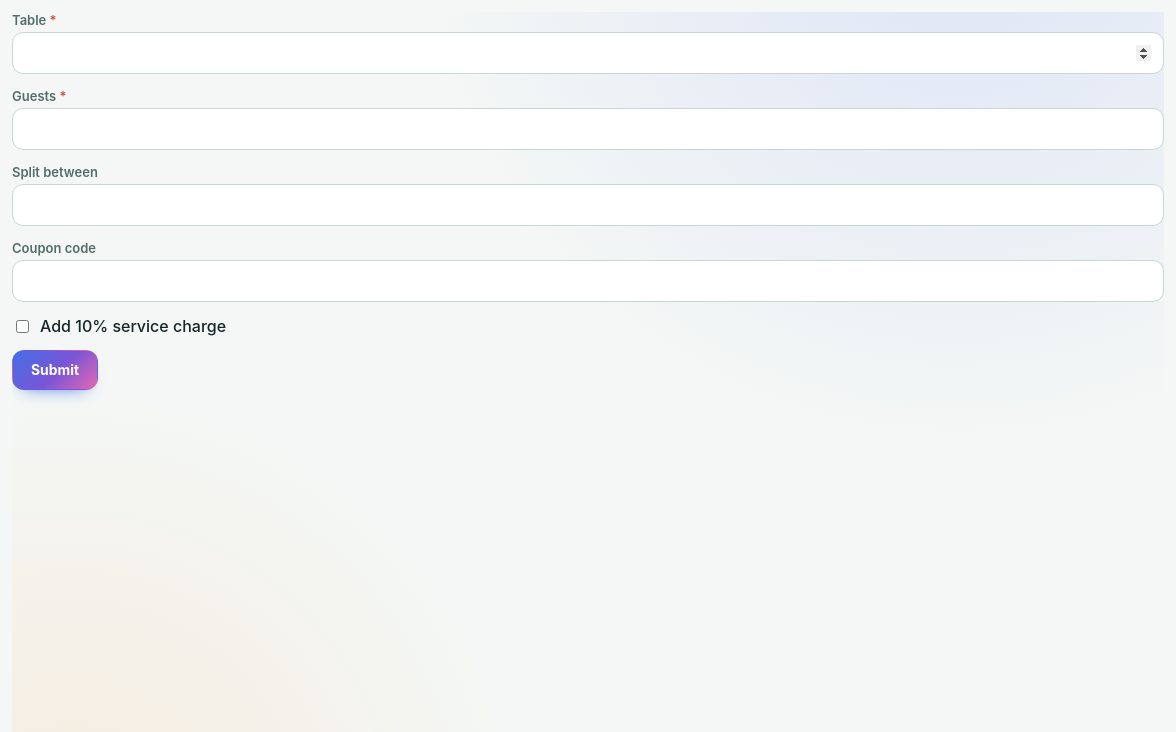
Scenario: <DynamicFormRenderer /> › shows errors instead of submitting invalid data
The width and height of the screenshot is (1176, 732).
Type "500" into the number field labelled "Table *".
click(588, 53); type("500")  # box top-left (12, 32), bottom-right (1164, 74)
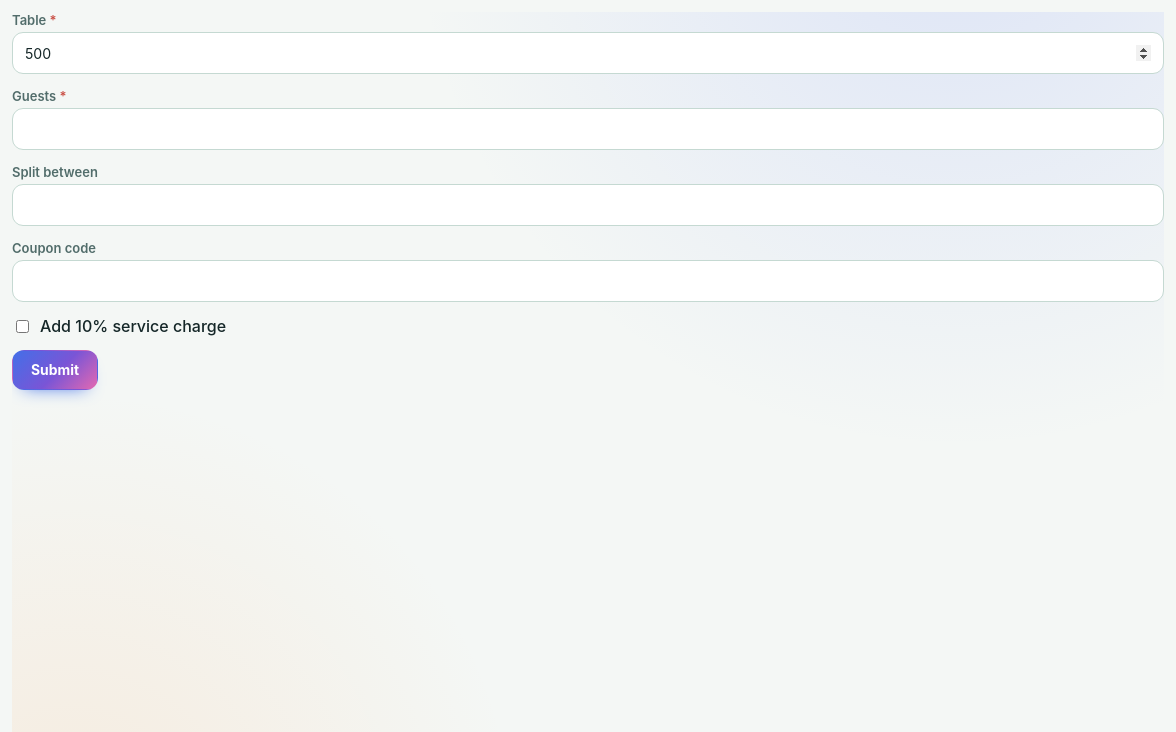
Click the button "Submit".
click(55, 370)  # box top-left (12, 350), bottom-right (98, 390)
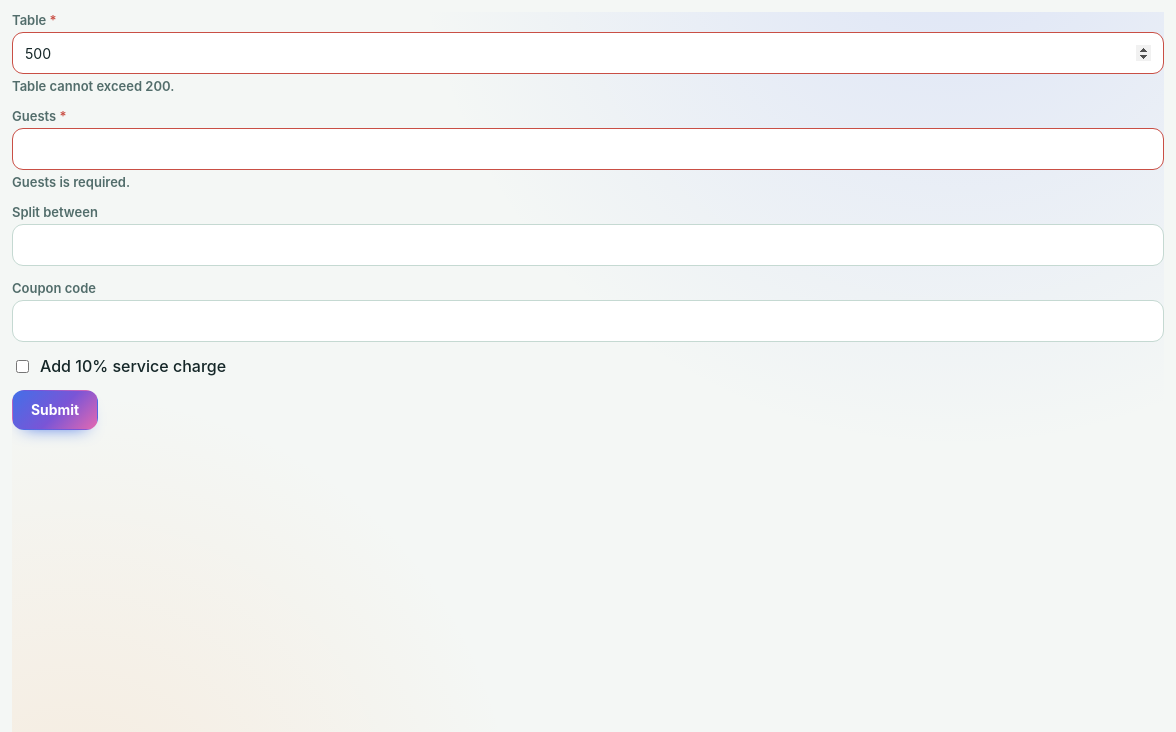
Expected: the text "Table cannot exceed 200." is shown, top-left (12, 78), bottom-right (174, 94)
Expected: the text "Guests is required." is shown, top-left (12, 174), bottom-right (130, 190)
